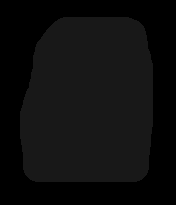fp: (16, 10, 158, 186)
